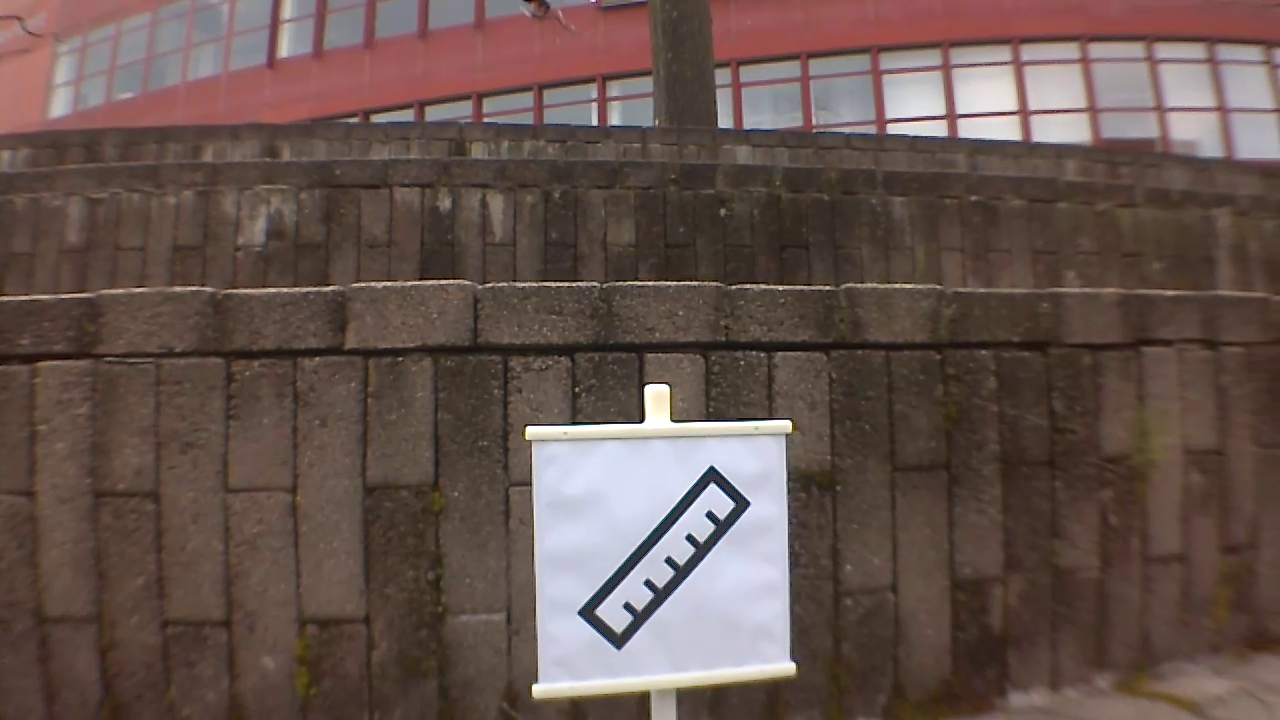ruler: (575, 462, 763, 655)
